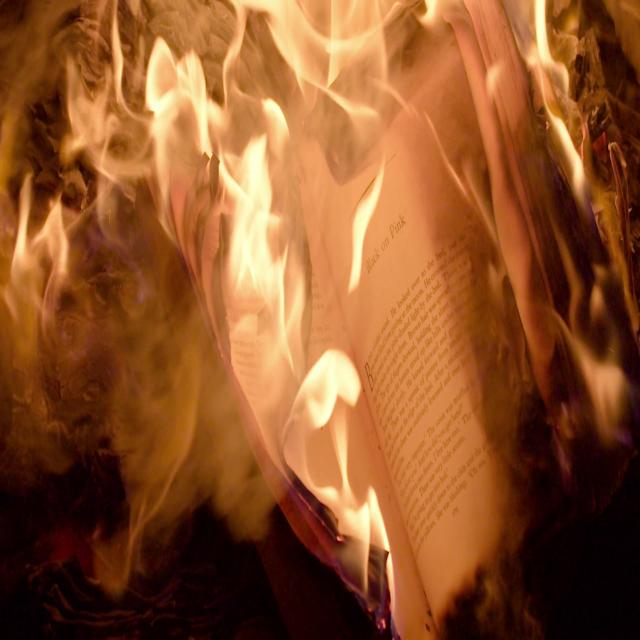Fire: (0, 3, 637, 619)
